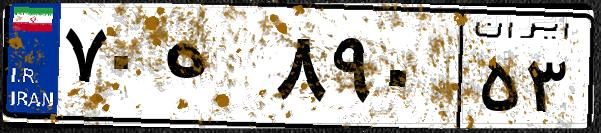0: (385, 28, 445, 110), (110, 28, 158, 98)
3: (525, 38, 570, 115)
5: (475, 38, 525, 113)
7: (57, 26, 110, 100)
8: (270, 28, 330, 110)
9: (330, 28, 385, 110)
ه: (158, 20, 270, 120)
